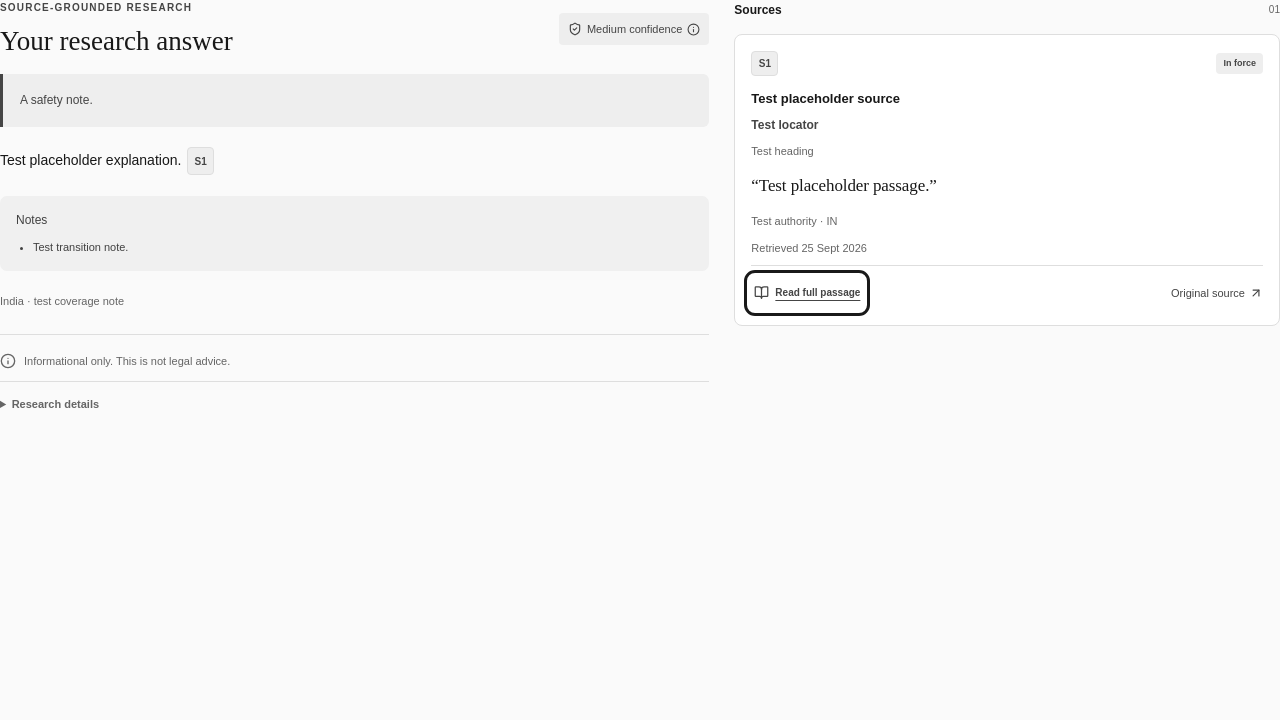
Scenario: full passage drawer › loads full text and page range, traps focus, closes on Escape and restores the opener
The image size is (1280, 720).
Click the button "Read full passage".
click(807, 293)  # box x1=751 y1=277 x2=863 y2=309
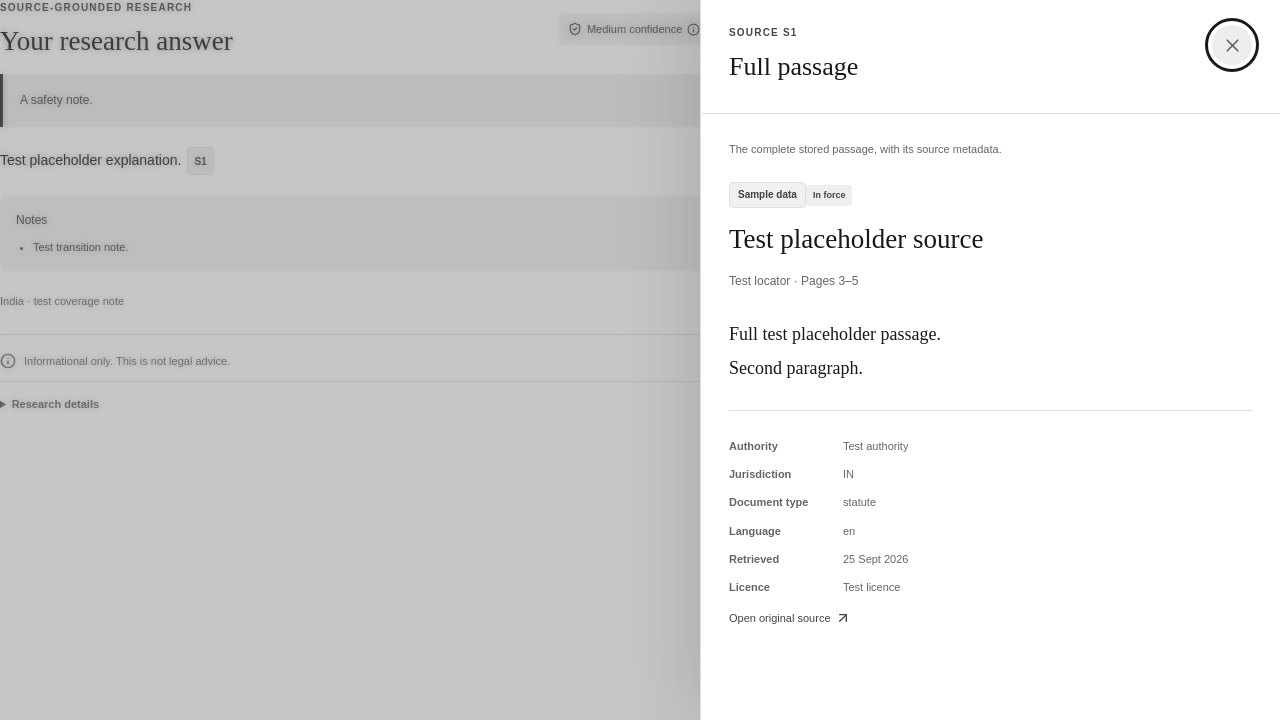
Expected: the text "Full test placeholder passage. Second paragraph." is shown, x1=729 y1=324 x2=941 y2=378
Expected: the text "Test locator · Pages 3–5" is shown, x1=729 y1=274 x2=858 y2=288
Press Tab in the button named "Close full passage", box x1=1212 y1=25 x2=1252 y2=65
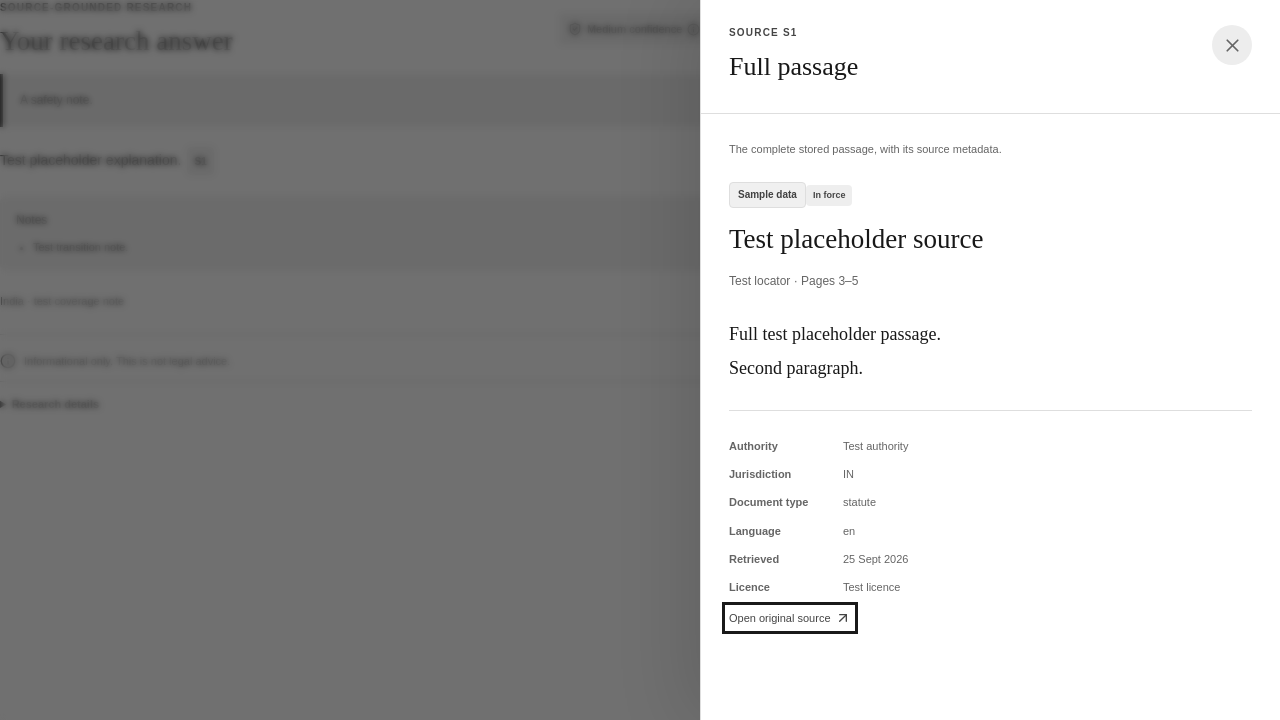
Press Escape in the dialog, box x1=700 y1=0 x2=1279 y2=719
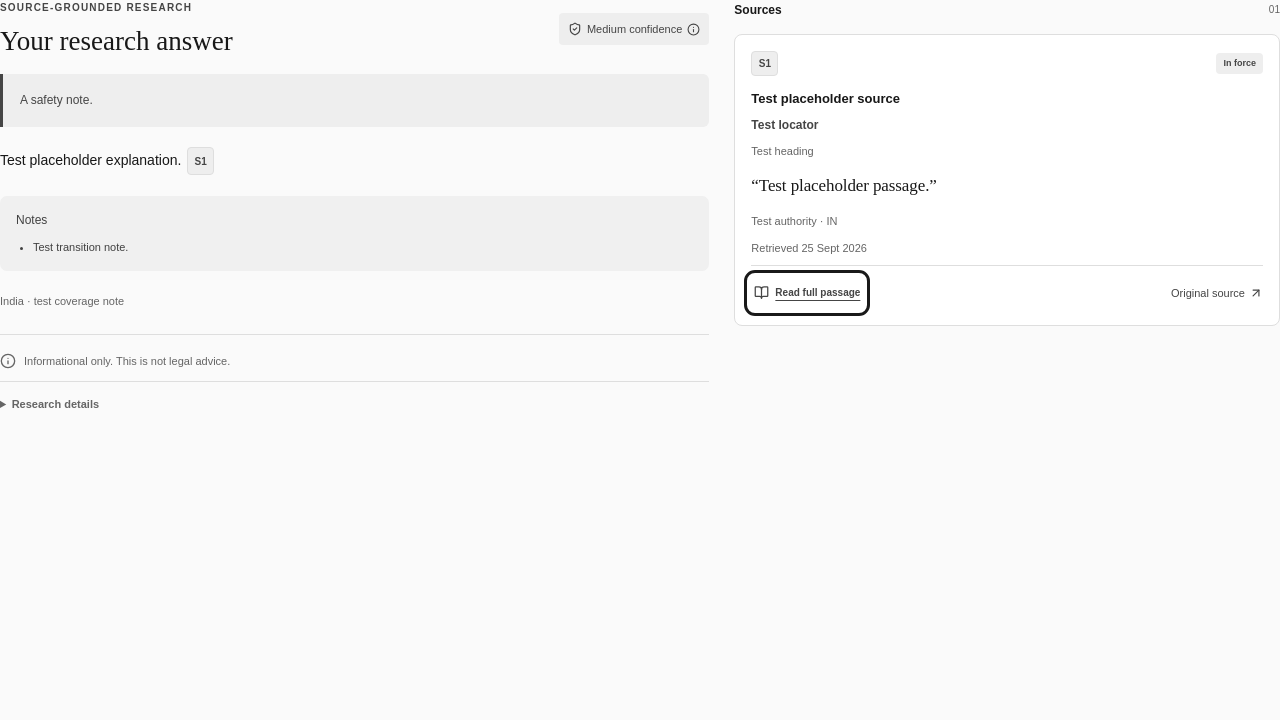
Expected: the dialog is gone
